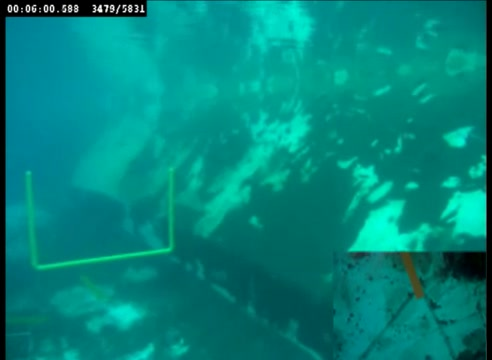channel: (24, 161, 185, 274)
